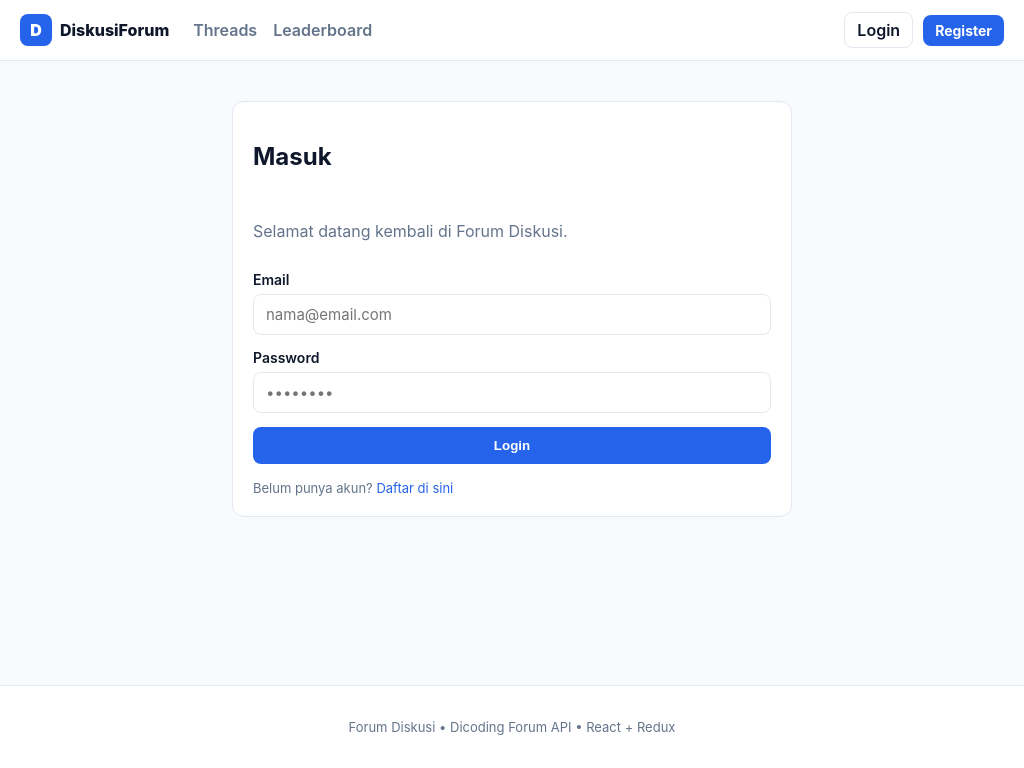
Test: Alur Login Aplikasi Forum Diskusi › menampilkan error saat login dengan akun yang salah
This screenshot has width=1024, height=768.
Type "akun-salah-tidak-ada@mail.com" into the field labelled "Email" at (512, 315), box [253,294,771,335]
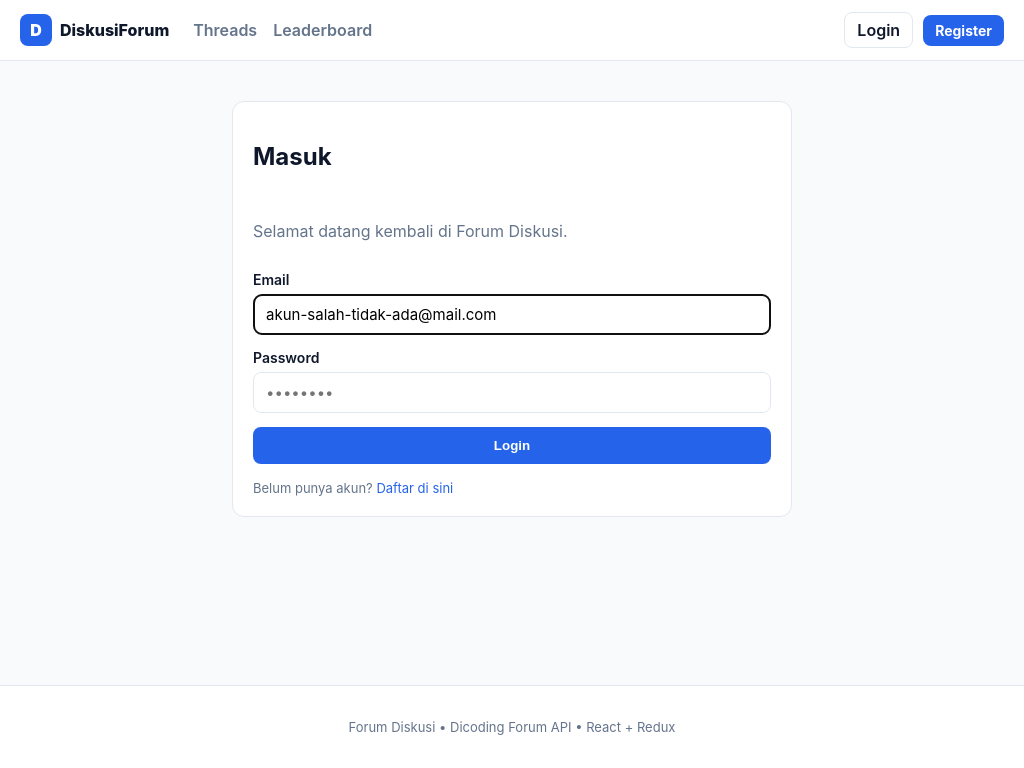
Type "passwordsalah123" into the password field labelled "Password" at (512, 393), box [253,372,771,413]
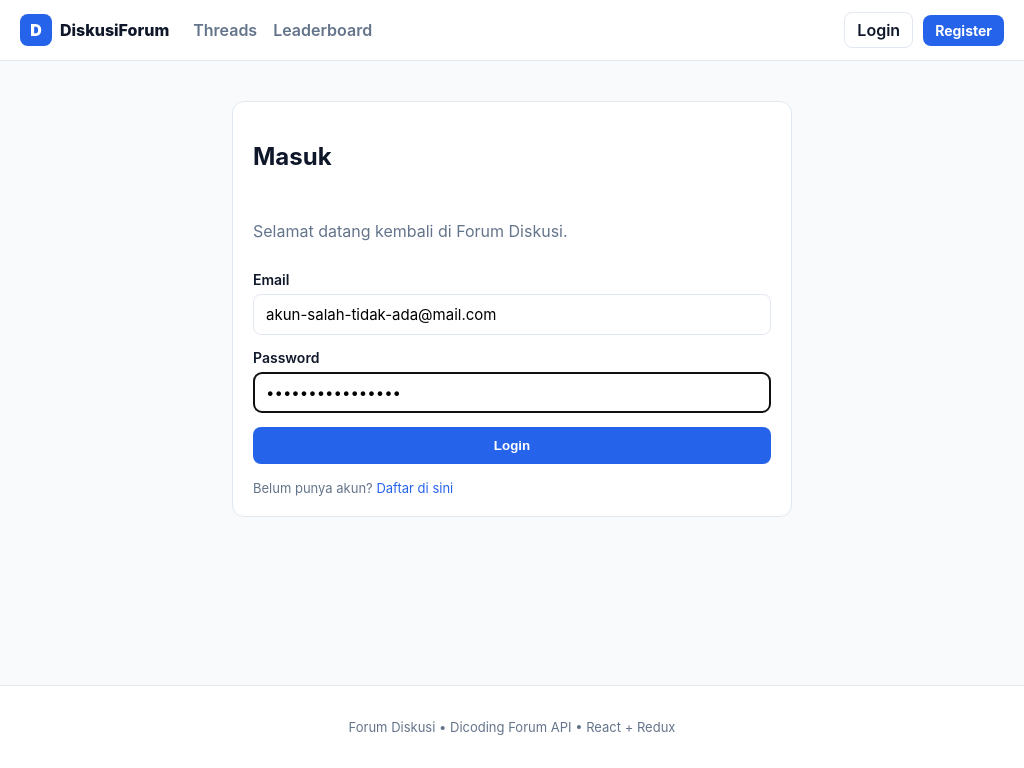
Click the button "Login" at (512, 446), box [253,427,771,464]
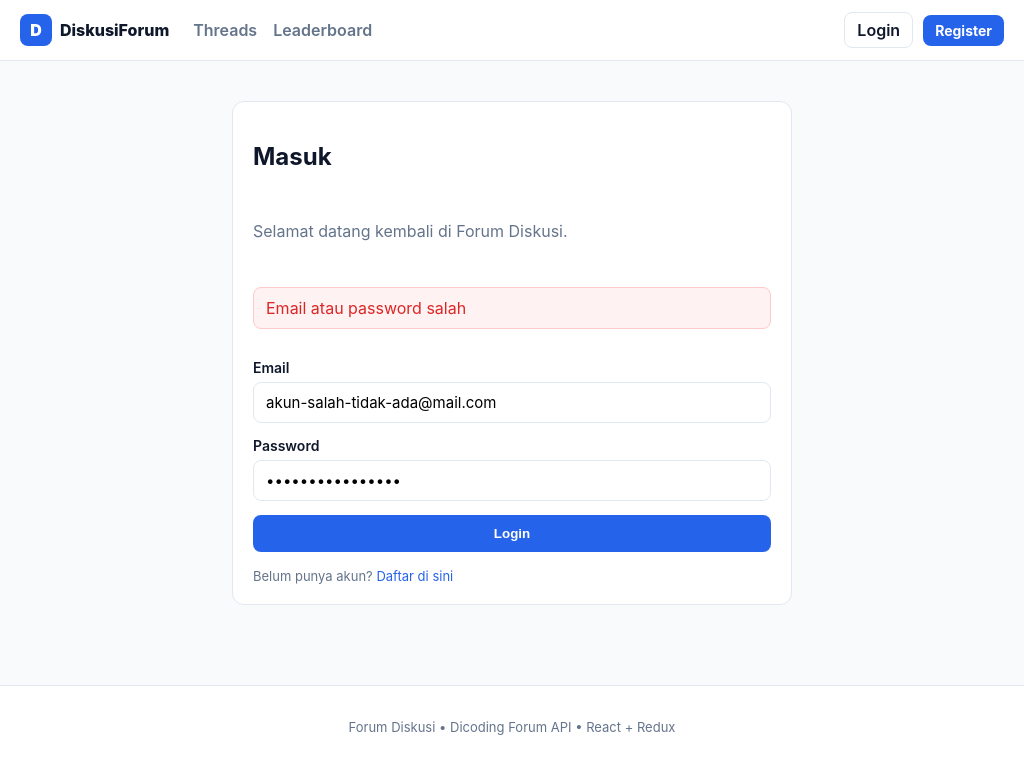
Now the text "Email atau password salah" is shown, box [253,287,771,329]
